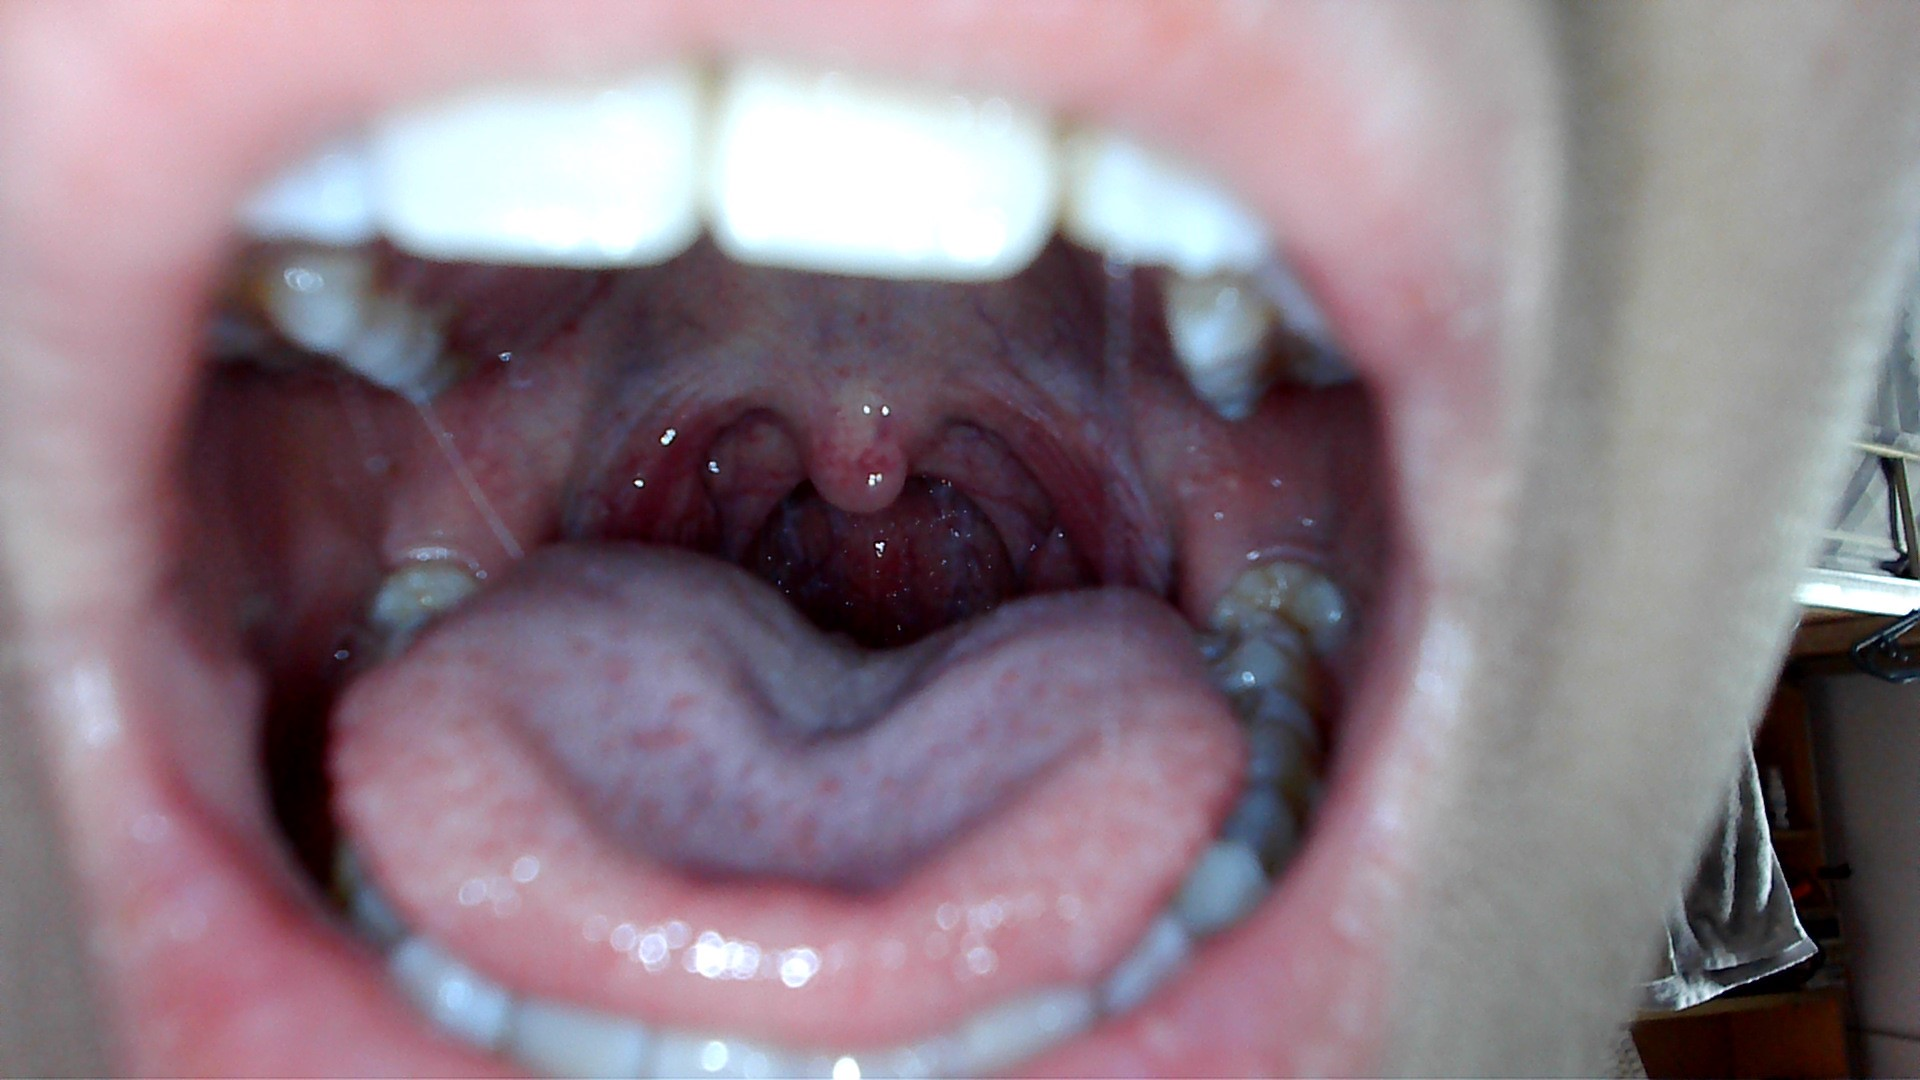throat: (1018, 404, 1162, 600), (607, 384, 723, 549)
